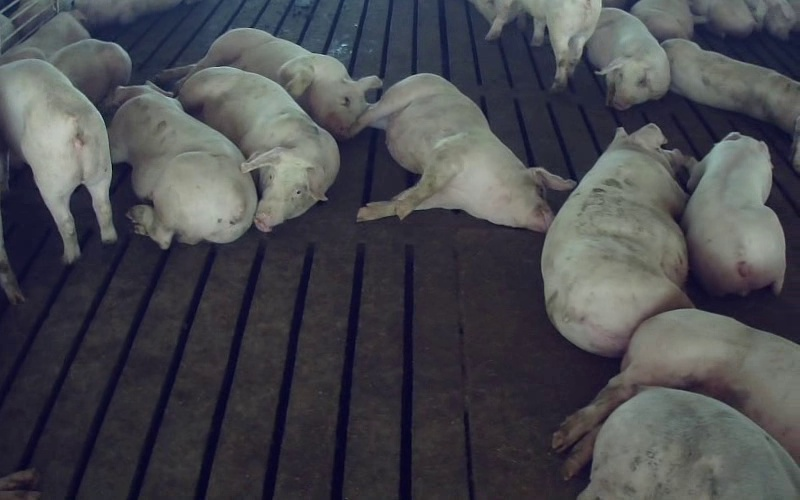pig: (552, 309, 799, 477), (351, 74, 574, 231), (542, 123, 691, 355), (179, 67, 339, 231), (578, 387, 799, 499), (157, 28, 381, 138), (108, 86, 256, 248), (681, 132, 785, 295), (662, 39, 799, 133), (586, 8, 669, 109)
